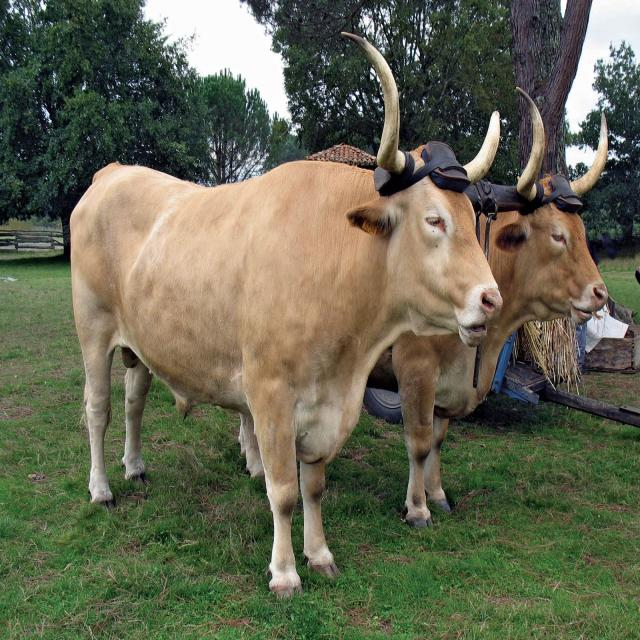Ox: (51, 24, 504, 601), (343, 85, 617, 521)
